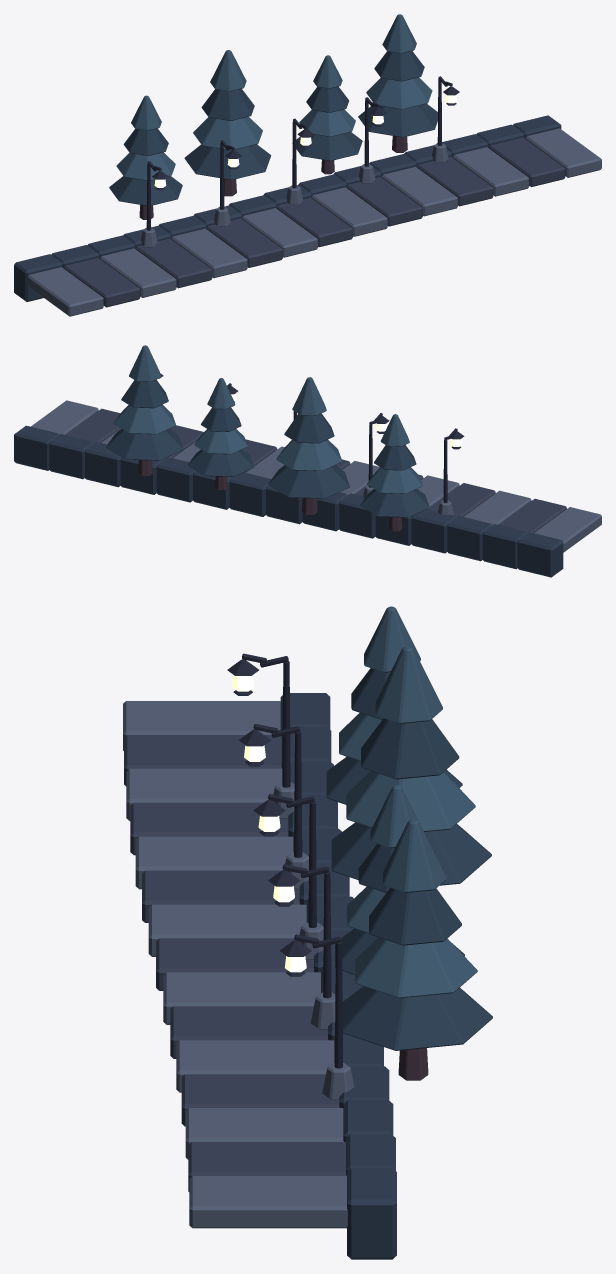
Rendered from coastal_lamp_pine.glb.
3 views of the same model, one above another, from view 1: azimuth 30°, elevation 25°; view 2: azimuth 150°, elevation 25°; view 3: azimuth 270°, elevation 25° (orthographic). The views are drawn at different scales.
Visible parts, largest first — view 1: NightPathRoot_Merged, Pine_1_Merged, Pine_3_Merged, Pine_0_Merged, Pine_2_Merged, CoastalLamp_2_Merged, CoastalLamp_3_Merged, CoastalLamp_1_Merged, CoastalLamp_0_Merged, CoastalLamp_4_Merged; view 2: NightPathRoot_Merged, Pine_1_Merged, Pine_3_Merged, Pine_0_Merged, Pine_2_Merged, CoastalLamp_0_Merged, CoastalLamp_1_Merged; view 3: NightPathRoot_Merged, Pine_3_Merged, Pine_1_Merged, Pine_0_Merged, Pine_2_Merged, CoastalLamp_4_Merged, CoastalLamp_3_Merged, CoastalLamp_2_Merged, CoastalLamp_1_Merged, CoastalLamp_0_Merged.
Part boxes in pixels (x1,y1,x2,y2): NightPathRoot_Merged: (14,115,601,316); Pine_1_Merged: (184,50,271,196); Pine_3_Merged: (358,14,437,152); Pine_0_Merged: (109,95,182,219); Pine_2_Merged: (292,55,362,174); CoastalLamp_2_Merged: (286,118,314,204); CoastalLamp_3_Merged: (358,97,386,183); CoastalLamp_1_Merged: (214,140,241,226); CoastalLamp_0_Merged: (141,161,168,247); CoastalLamp_4_Merged: (432,76,459,162); NightPathRoot_Merged: (14,400,601,577); Pine_1_Merged: (268,377,349,514); Pine_3_Merged: (106,345,183,476); Pine_0_Merged: (360,414,429,531); Pine_2_Merged: (187,378,253,490); CoastalLamp_0_Merged: (438,428,464,515); CoastalLamp_1_Merged: (363,413,389,497); NightPathRoot_Merged: (123,693,396,1259); Pine_3_Merged: (342,819,492,1080); Pine_1_Merged: (331,646,491,885); Pine_0_Merged: (326,606,462,804); Pine_2_Merged: (335,785,464,974); CoastalLamp_4_Merged: (280,934,354,1099); CoastalLamp_3_Merged: (268,864,335,1029); CoastalLamp_2_Merged: (253,794,323,959); CoastalLamp_1_Merged: (239,724,308,889); CoastalLamp_0_Merged: (227,653,294,818).
Bounding box in the file's own units: 21.8 × 6.41 × 6.69.
